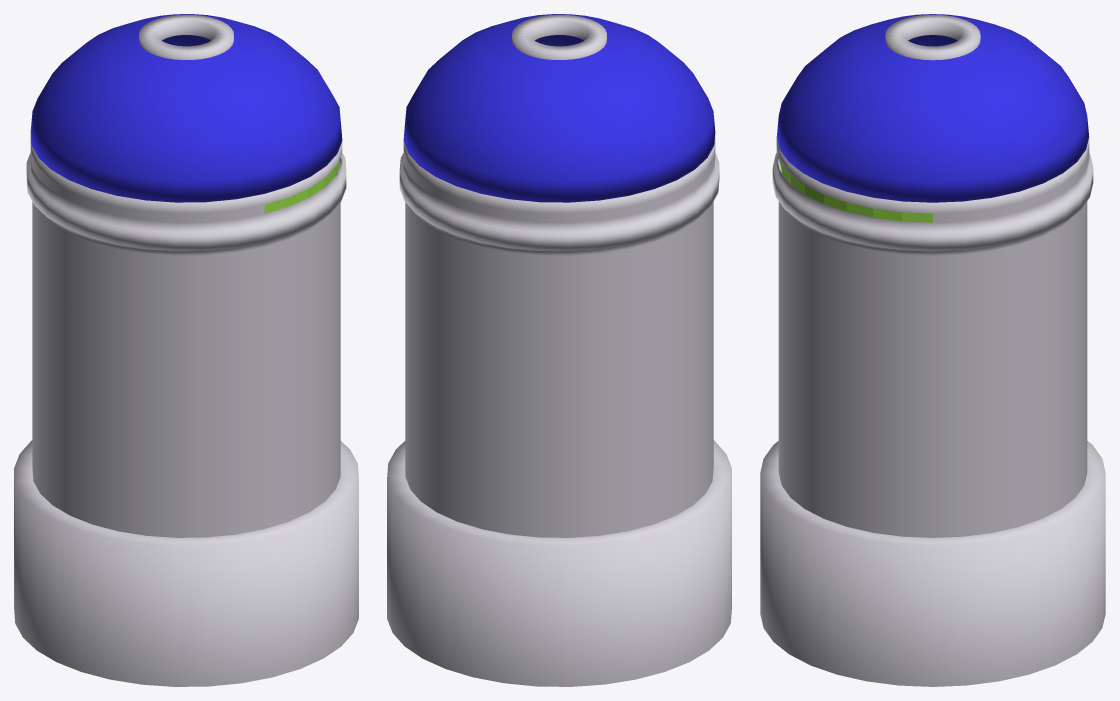
The model's file is Carga.fbx.
3 renders of one model, left to right at view 1: azimuth 30°, elevation 25°; view 2: azimuth 150°, elevation 25°; view 3: azimuth 270°, elevation 25°, orthographic.
Visible parts, largest first — view 1: Almacenador, Base, VidrioCarga, Carga_almacenador; view 2: Almacenador, Base, VidrioCarga; view 3: Almacenador, Base, VidrioCarga, Carga_almacenador.
Boxes of the visible parts, x1=… form: Almacenador: x1=26, y1=14, x2=346, y2=537; Base: x1=14, y1=440, x2=358, y2=686; VidrioCarga: x1=30, y1=14, x2=342, y2=202; Carga_almacenador: x1=264, y1=159, x2=339, y2=213; Almacenador: x1=399, y1=14, x2=719, y2=537; Base: x1=387, y1=440, x2=731, y2=686; VidrioCarga: x1=403, y1=14, x2=715, y2=202; Almacenador: x1=772, y1=14, x2=1093, y2=537; Base: x1=760, y1=441, x2=1105, y2=686; VidrioCarga: x1=776, y1=14, x2=1089, y2=202; Carga_almacenador: x1=779, y1=159, x2=932, y2=222.
Bounding box in the file's own units: 1257 × 2329 × 1257.
